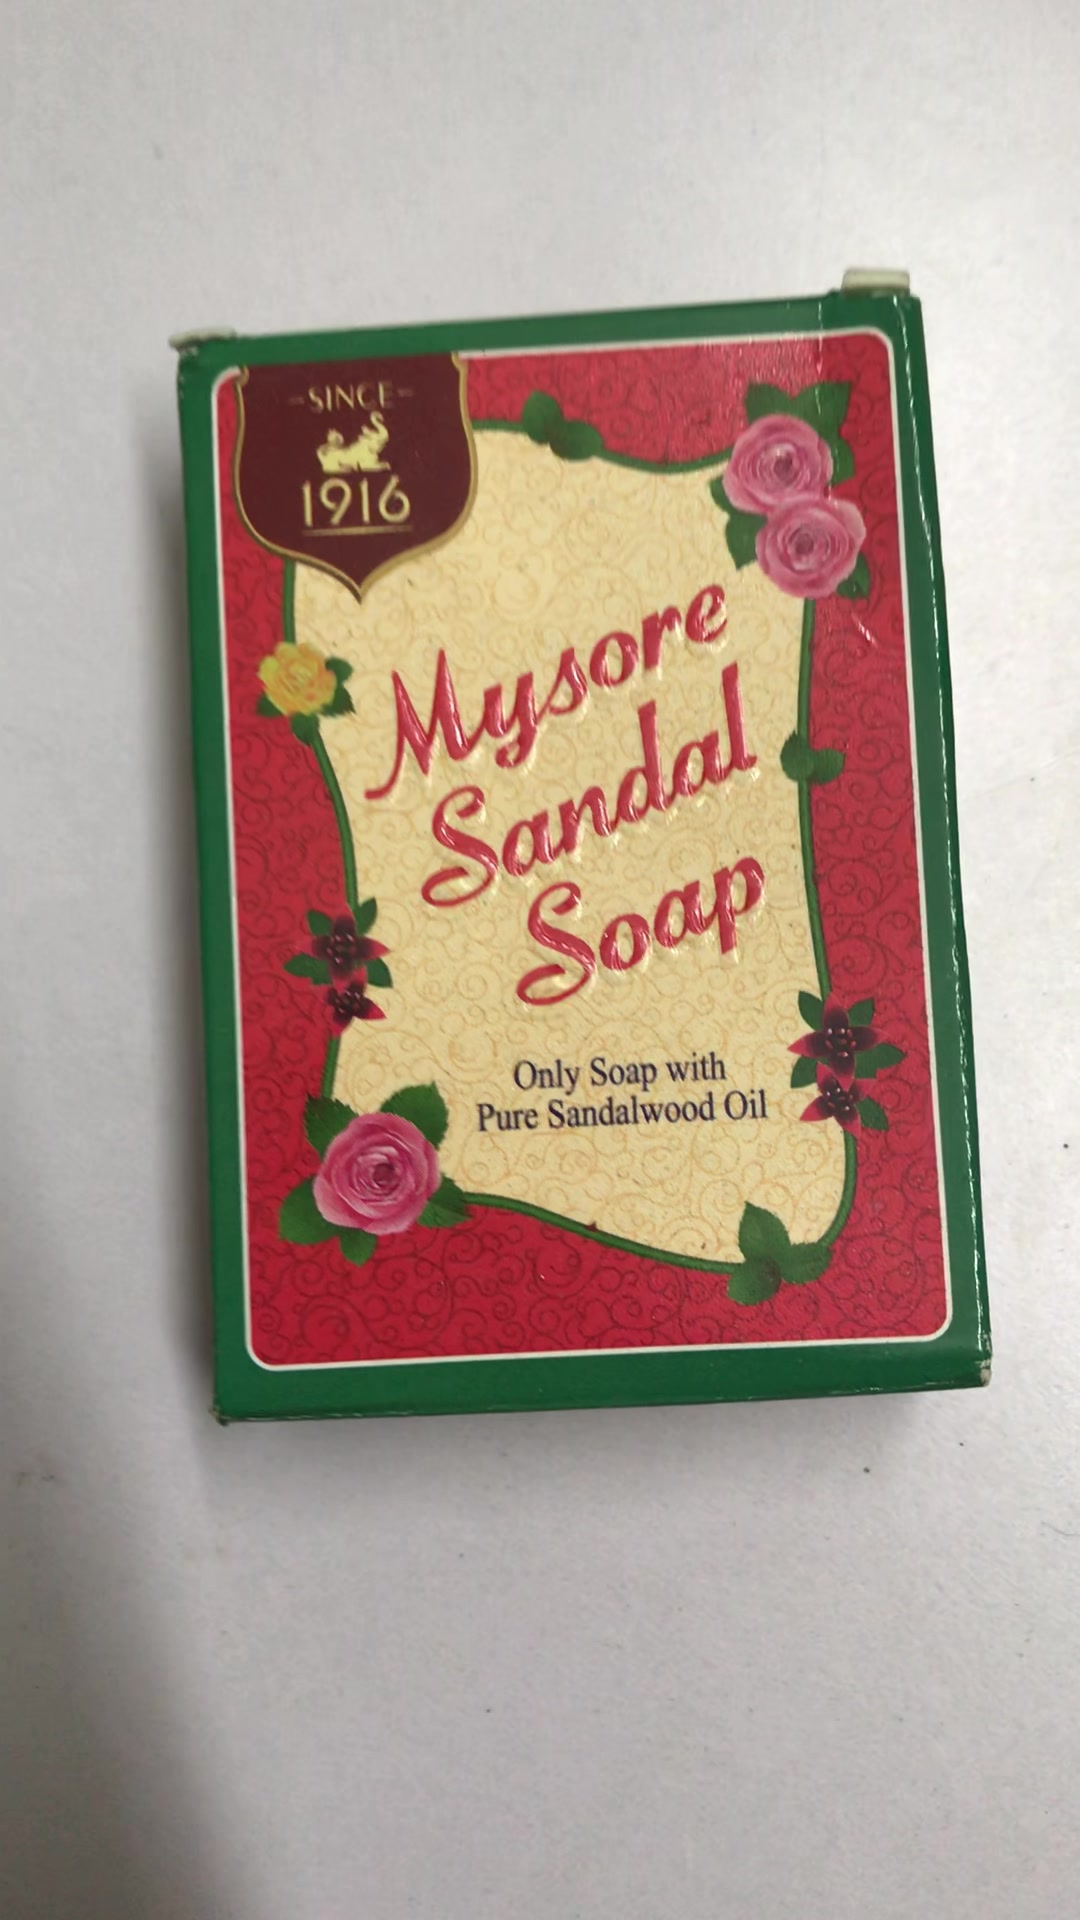mysore sandal soap: (178, 294, 993, 1414)
